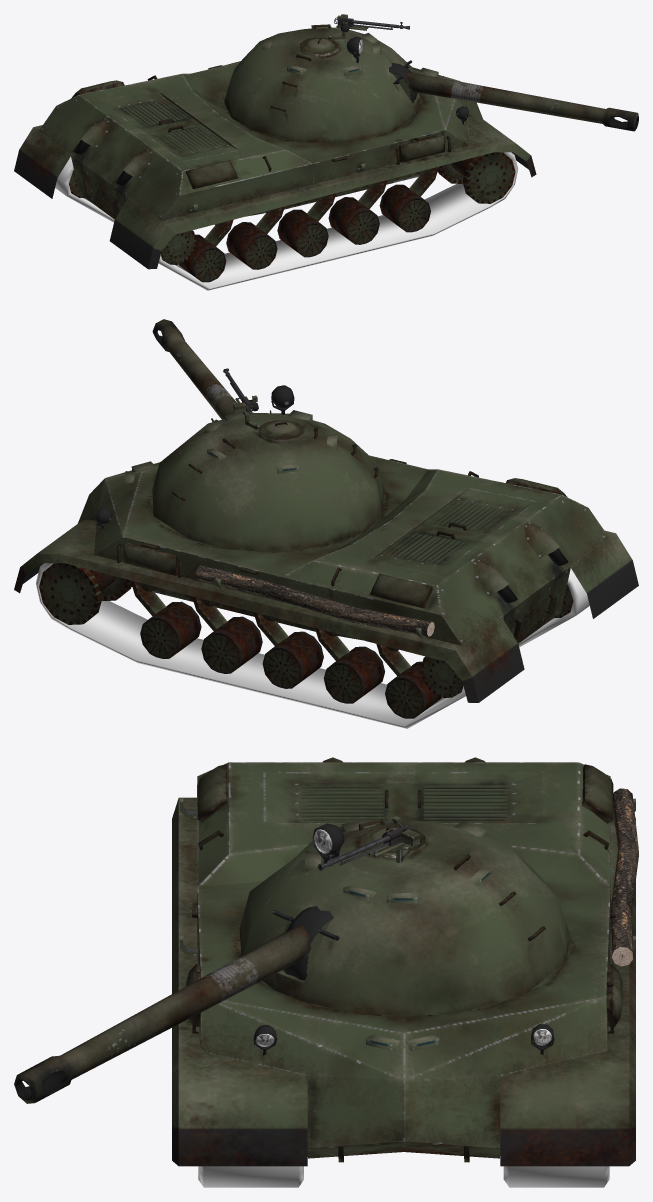
The picture shows the model from 3 angles, top to bottom: view 1: azimuth 30°, elevation 25°; view 2: azimuth 150°, elevation 25°; view 3: azimuth 270°, elevation 25°; orthographic projection. The views are drawn at different scales.
Parts seen in each view (by area): view 1: Tower, Tracks; view 2: Tower, Tracks; view 3: Tower, Tracks.
Part boxes in pixels (bbox=[...]): Tower: bbox=[14, 14, 638, 282]; Tracks: bbox=[55, 152, 517, 290]; Tower: bbox=[14, 319, 638, 718]; Tracks: bbox=[36, 563, 589, 728]; Tower: bbox=[14, 757, 638, 1166]; Tracks: bbox=[198, 1166, 609, 1187].
Bounding box in the file's own units: 522 × 207 × 375.
